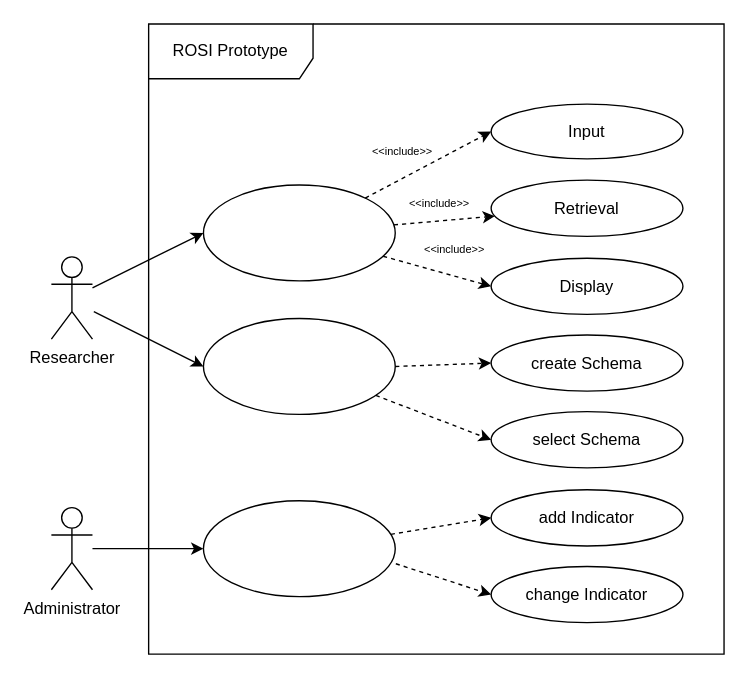
Image size: 748x678. Some labels were removed from this diagram. The centre of each missing label's shape, as x and y in pixels:
"Configuration" goes at (x=298, y=548).
"Customisation" goes at (x=298, y=365).
"Visualisation" goes at (x=298, y=232).
